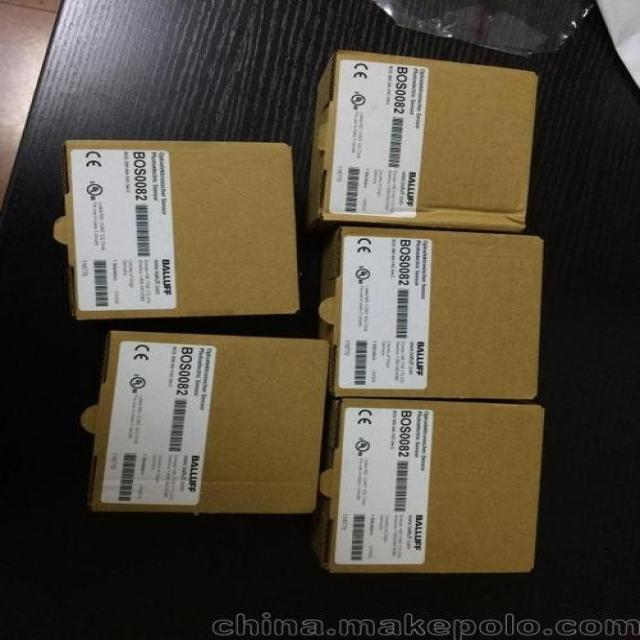box: (82, 330, 330, 512), (54, 140, 301, 320), (308, 49, 538, 232), (311, 397, 547, 573), (320, 225, 544, 400)
